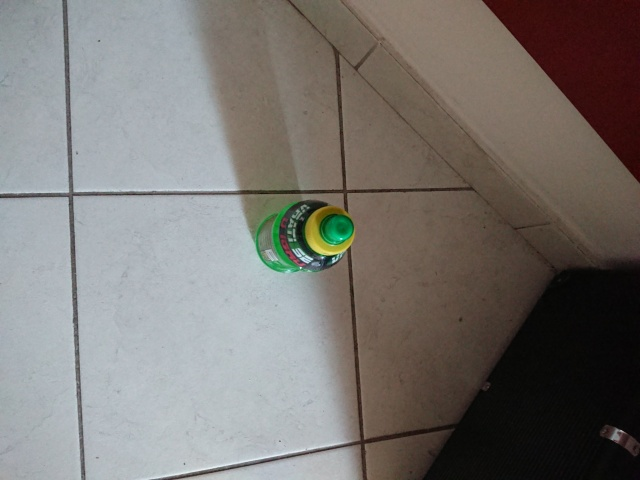Vindi Iso Sport Lemon-Grapefruit 500mL: (252, 197, 359, 276)
